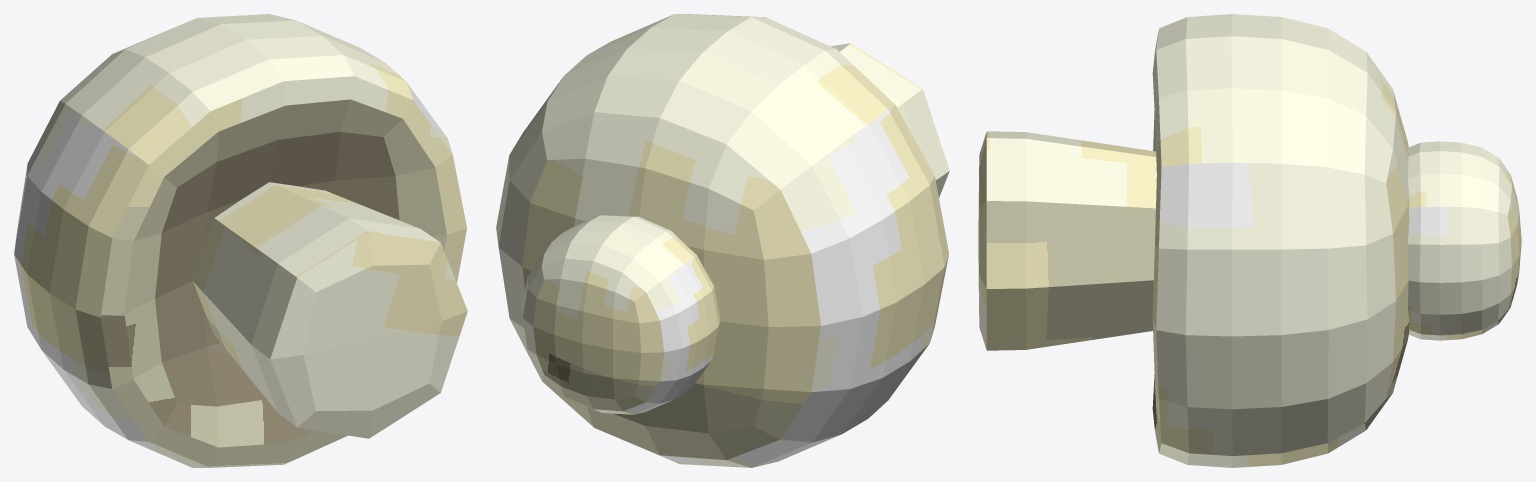
File: White mushroom 2.fbx
3 views of the same model, side by side, from view 1: azimuth 30°, elevation 25°; view 2: azimuth 150°, elevation 25°; view 3: azimuth 270°, elevation 25° (orthographic).
Parts seen in each view (by area): view 1: White mushroom 2; view 2: White mushroom 2; view 3: White mushroom 2.
Part boxes in pixels (bbox=[...]): White mushroom 2: bbox=[14, 14, 467, 467]; White mushroom 2: bbox=[496, 14, 949, 467]; White mushroom 2: bbox=[978, 14, 1521, 467].
Bounding box in the file's own units: 757 × 757 × 911.
